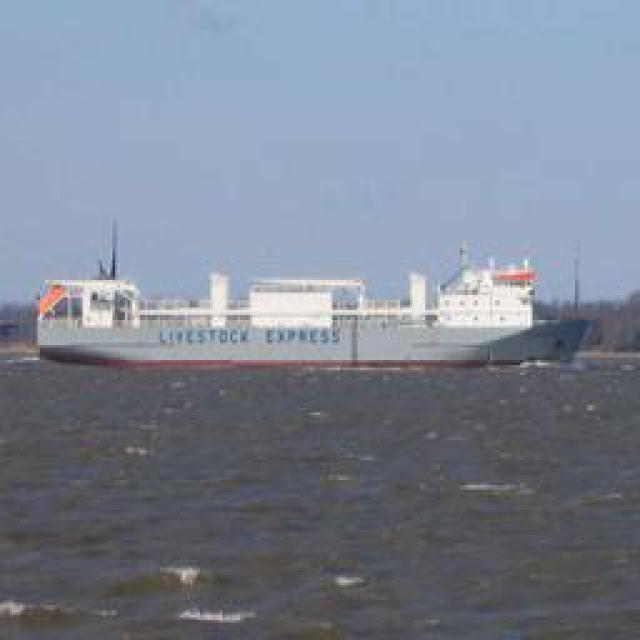Ship: (39, 241, 632, 369)
